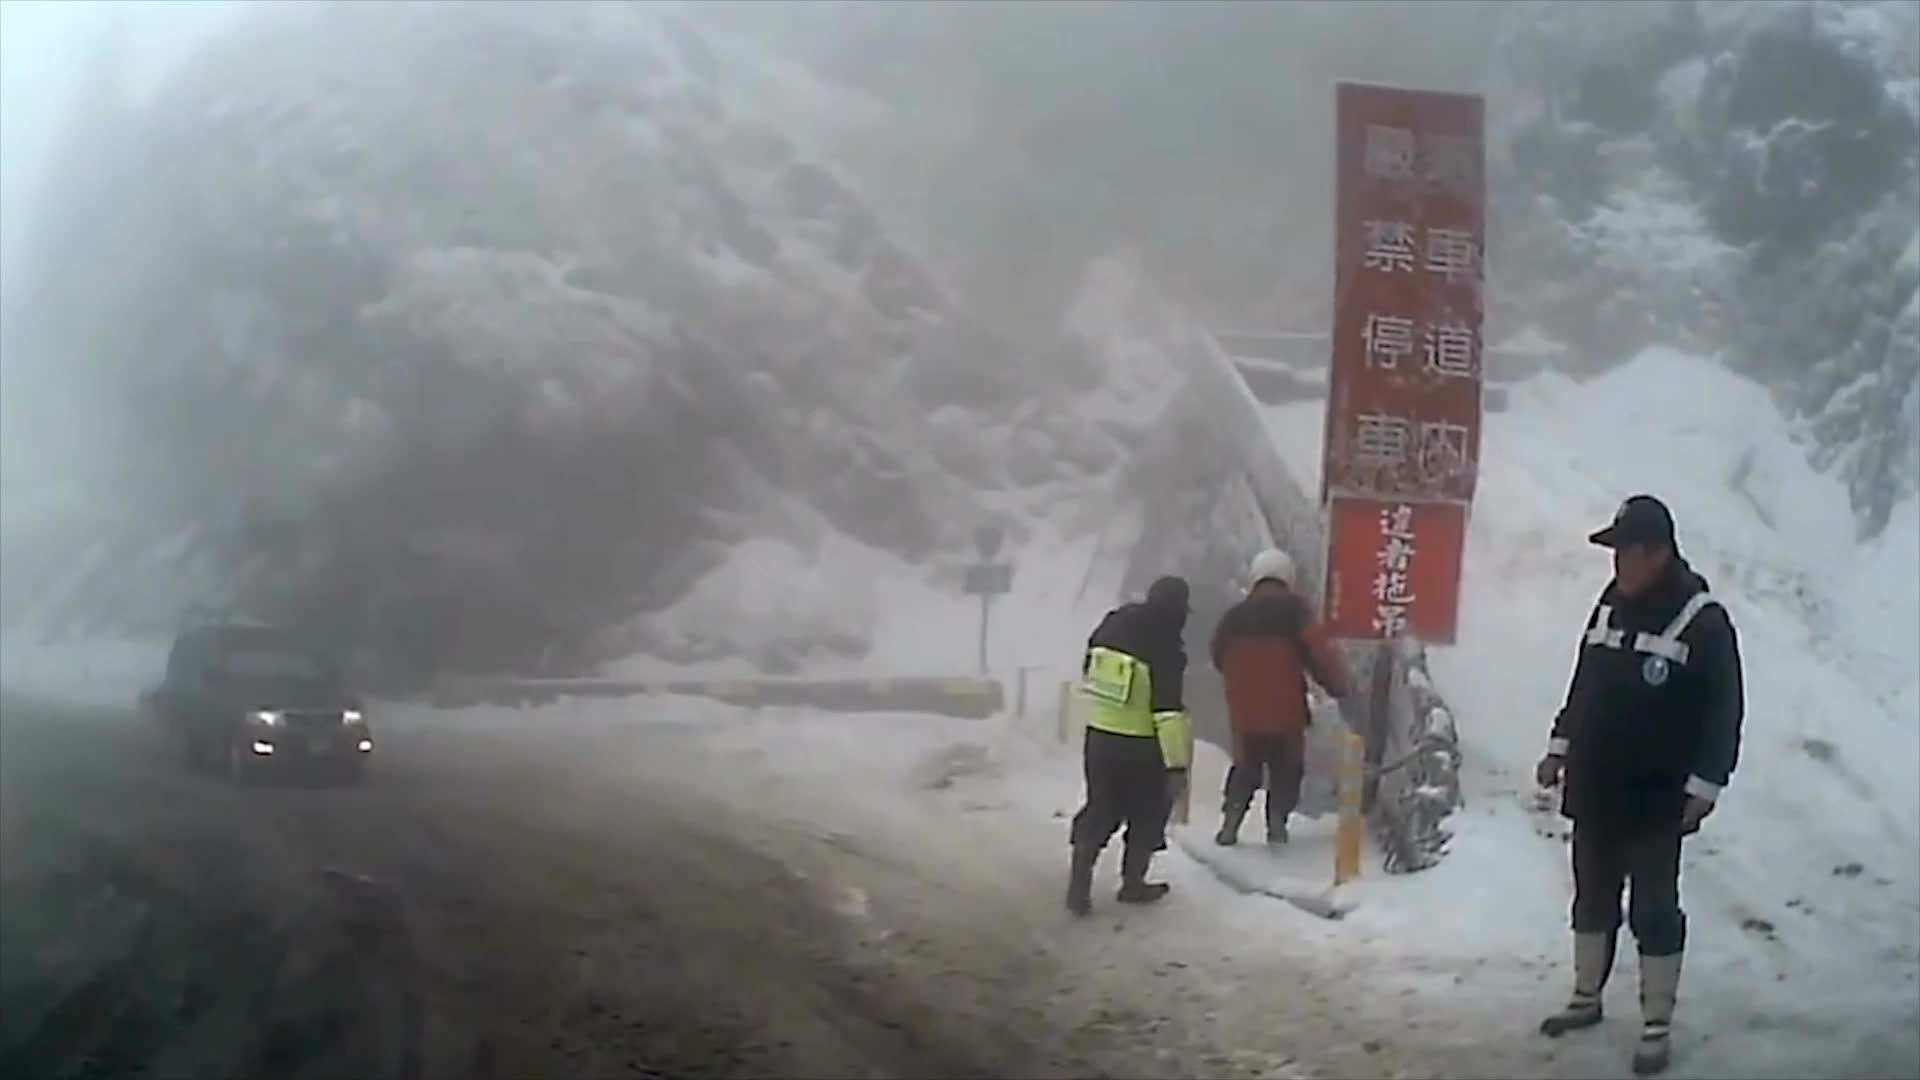pedestrian: (1533, 493, 1749, 1074), (1063, 579, 1198, 920), (1217, 549, 1341, 855)
vehicle: (160, 622, 373, 787)
